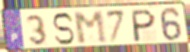3: (26, 14, 49, 46)
6: (159, 6, 183, 42)
7: (106, 8, 126, 45)
M: (72, 10, 110, 46)
P: (132, 8, 157, 44)
S: (51, 12, 76, 46)
